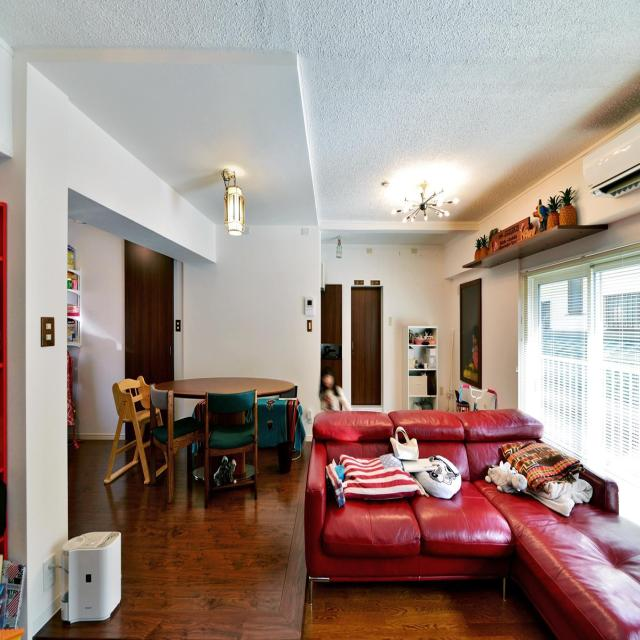vintage chair: (98, 371, 166, 480), (200, 389, 260, 488), (148, 382, 198, 493)
vintage desk: (149, 376, 300, 499)
vintage sofa: (301, 401, 640, 639)
